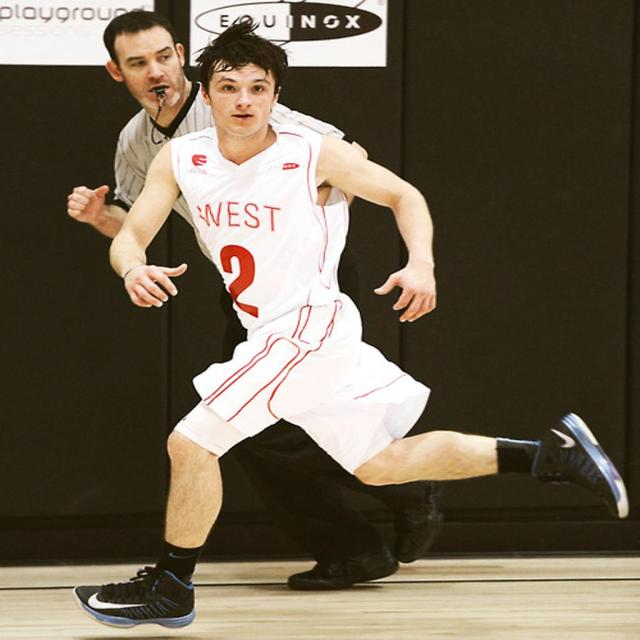Face: (112, 18, 195, 123), (215, 61, 282, 139)
